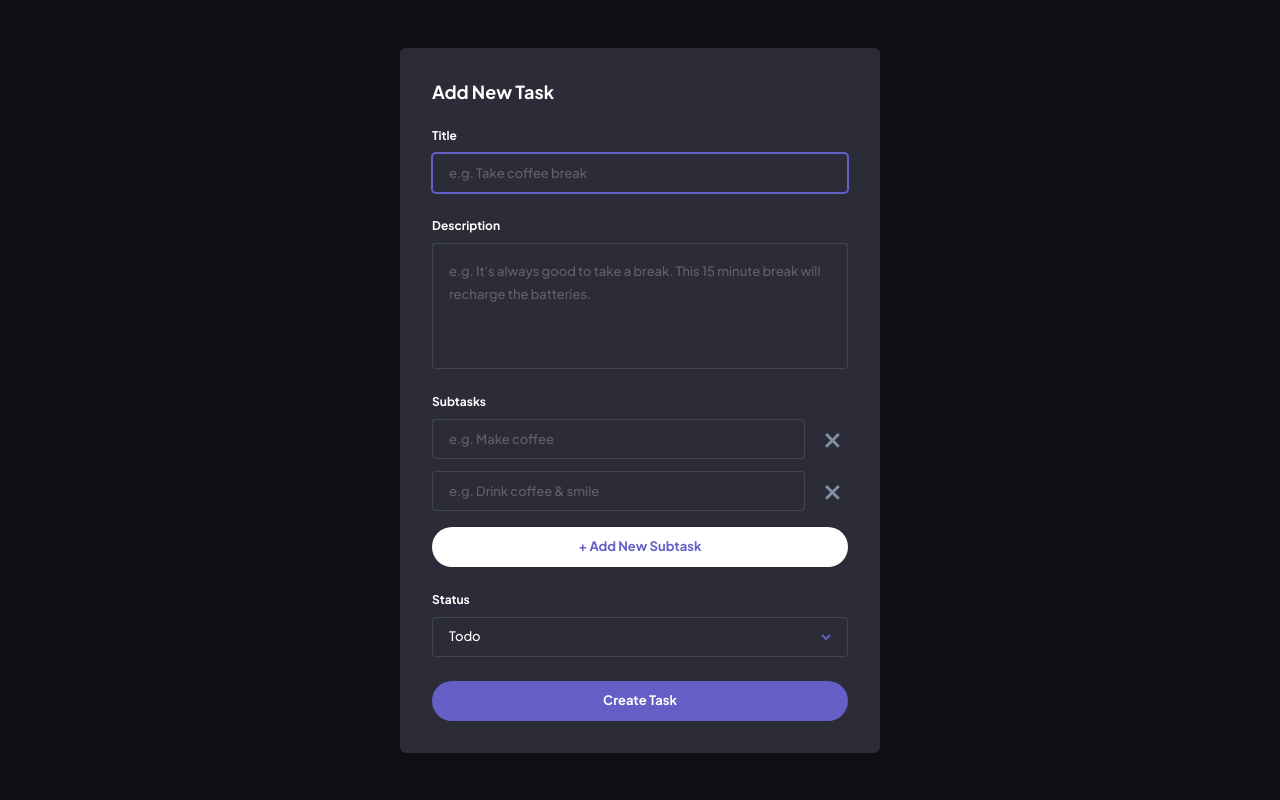
Scenario: TaskFormModal Component and Validation › shows error validation when submitting empty task title
Click the button "Create Task".
click(640, 700)  # box [432, 680, 848, 720]
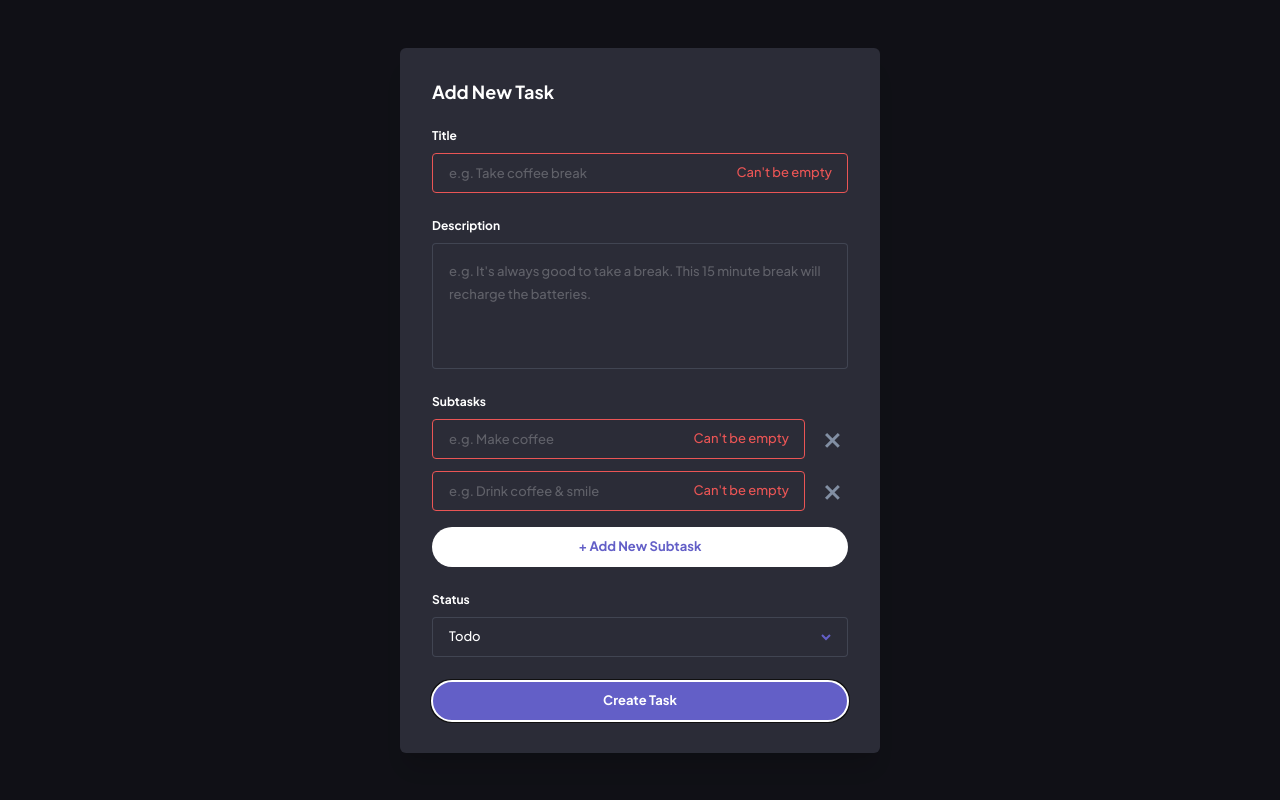
Expected: the 1st message "Can't be empty" is shown, [736, 161, 832, 184]
